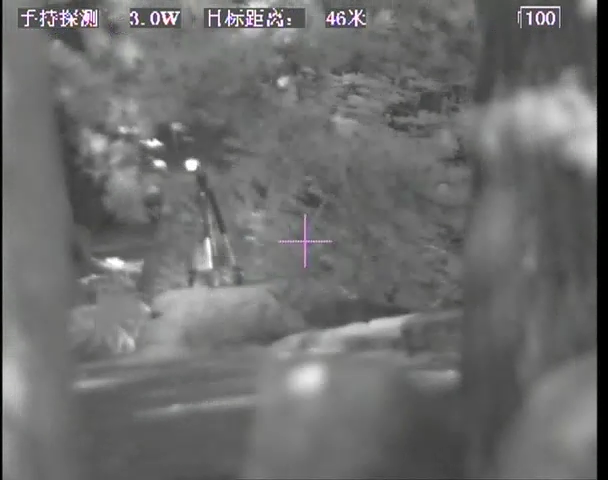my: (183, 155, 202, 174)
